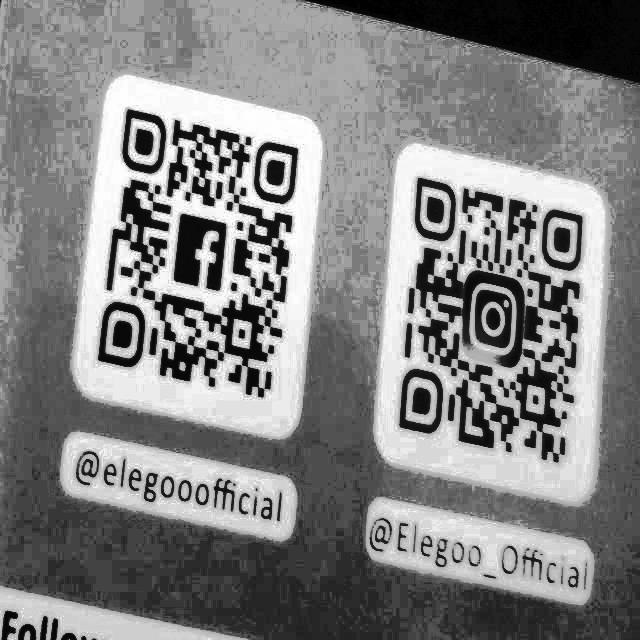qr_code: (89, 85, 305, 417), (387, 159, 595, 479)
